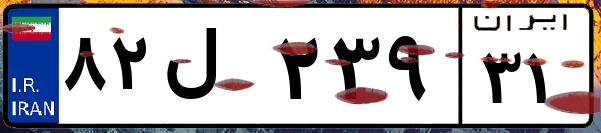1: (525, 38, 570, 115)
2: (270, 28, 330, 110), (110, 28, 158, 98)
3: (330, 28, 385, 110), (475, 38, 525, 113)
8: (57, 26, 110, 100)
9: (385, 28, 445, 110)
ل: (158, 20, 270, 120)
